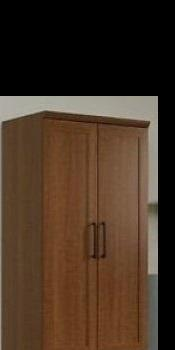Armario: (1, 110, 148, 350)
